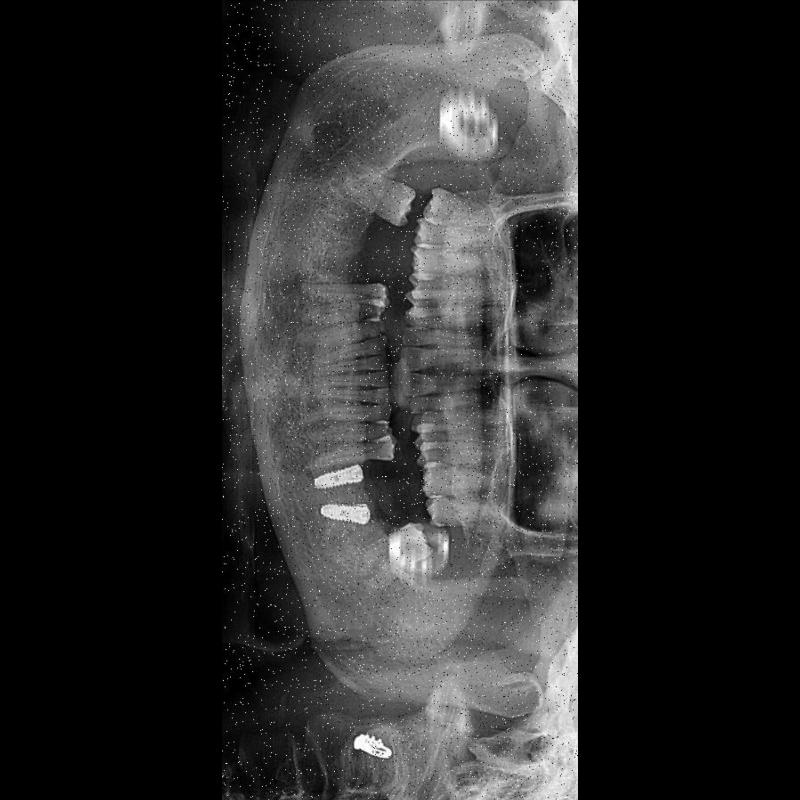Dentium: (312, 465, 364, 491), (318, 501, 372, 525)
